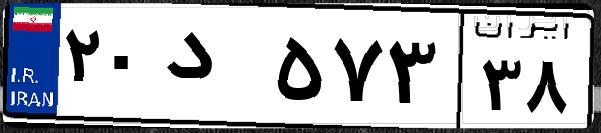0: (110, 28, 158, 98)
2: (57, 26, 110, 100)
3: (385, 28, 445, 110), (475, 38, 525, 113)
5: (270, 28, 330, 110)
7: (330, 28, 385, 110)
8: (525, 38, 570, 115)
د: (158, 20, 270, 120)
